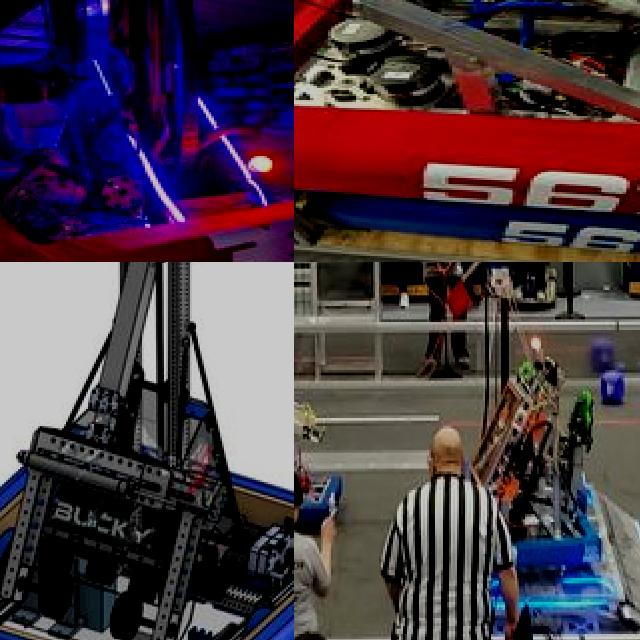FRC-Robots: (0, 262, 294, 640), (294, 0, 640, 251), (0, 0, 294, 262), (498, 364, 604, 570), (294, 354, 342, 529)
